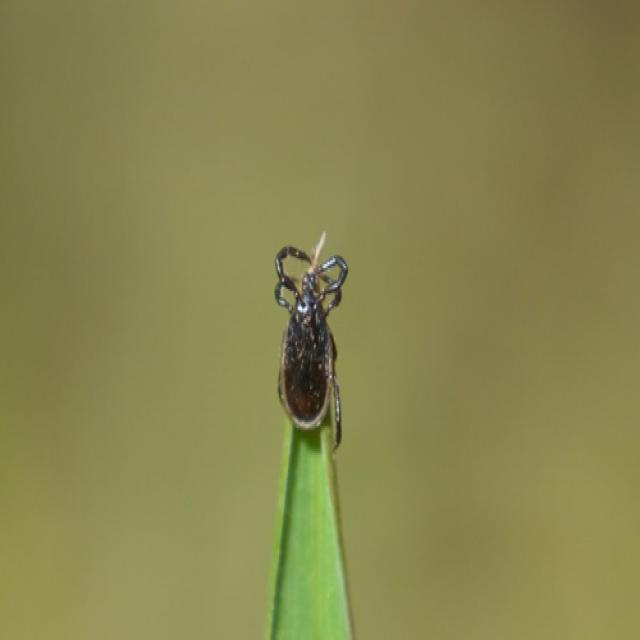Ixodes Ricinus-M: (274, 247, 349, 449)
